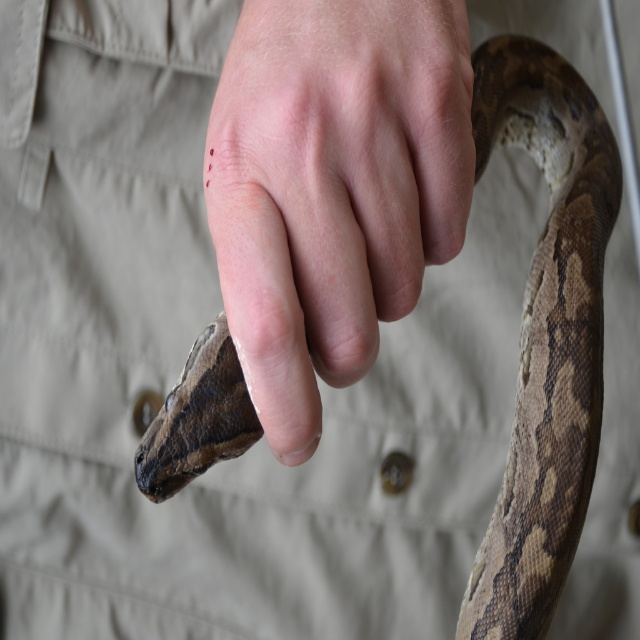Snake: (135, 34, 622, 639)
